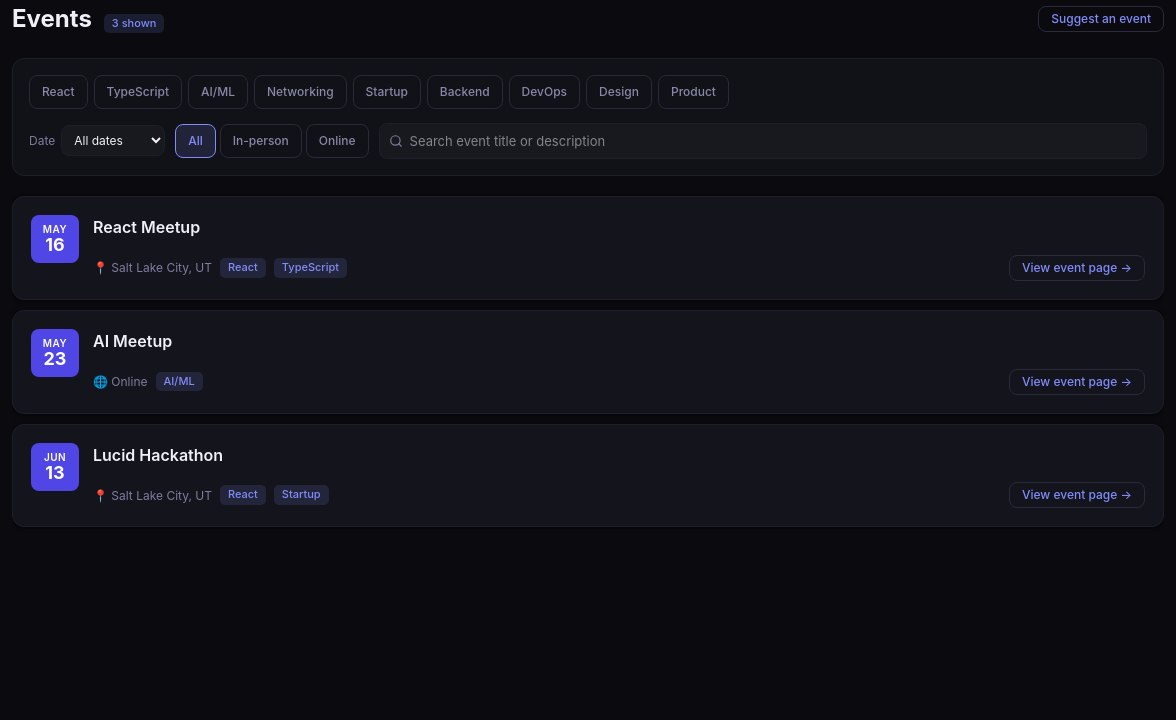
Test case: EventsPage › filters by topic when pill toggled on
The image size is (1176, 720).
Click the button "AI/ML".
click(218, 92)  # box [188,75,248,109]
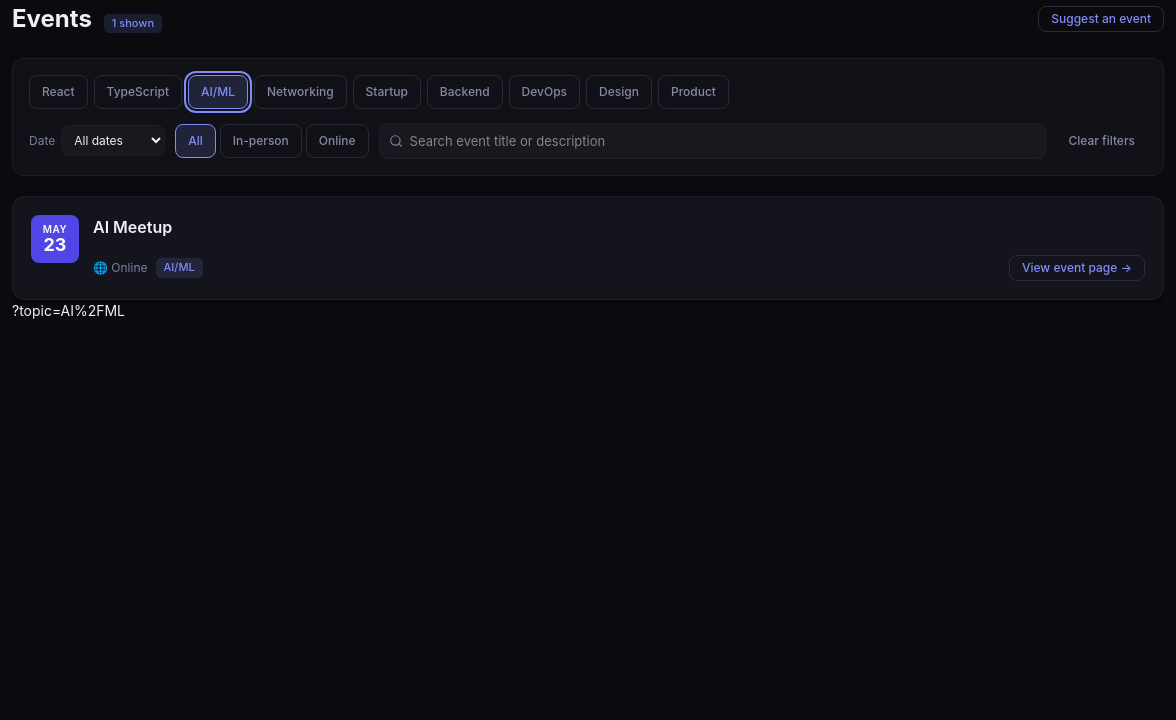
Expected: the heading "AI Meetup" is shown, [93,217,172,237]
Expected: the link "React Meetup" is gone
Expected: the text "1 shown" is shown, [104,14,162,33]
